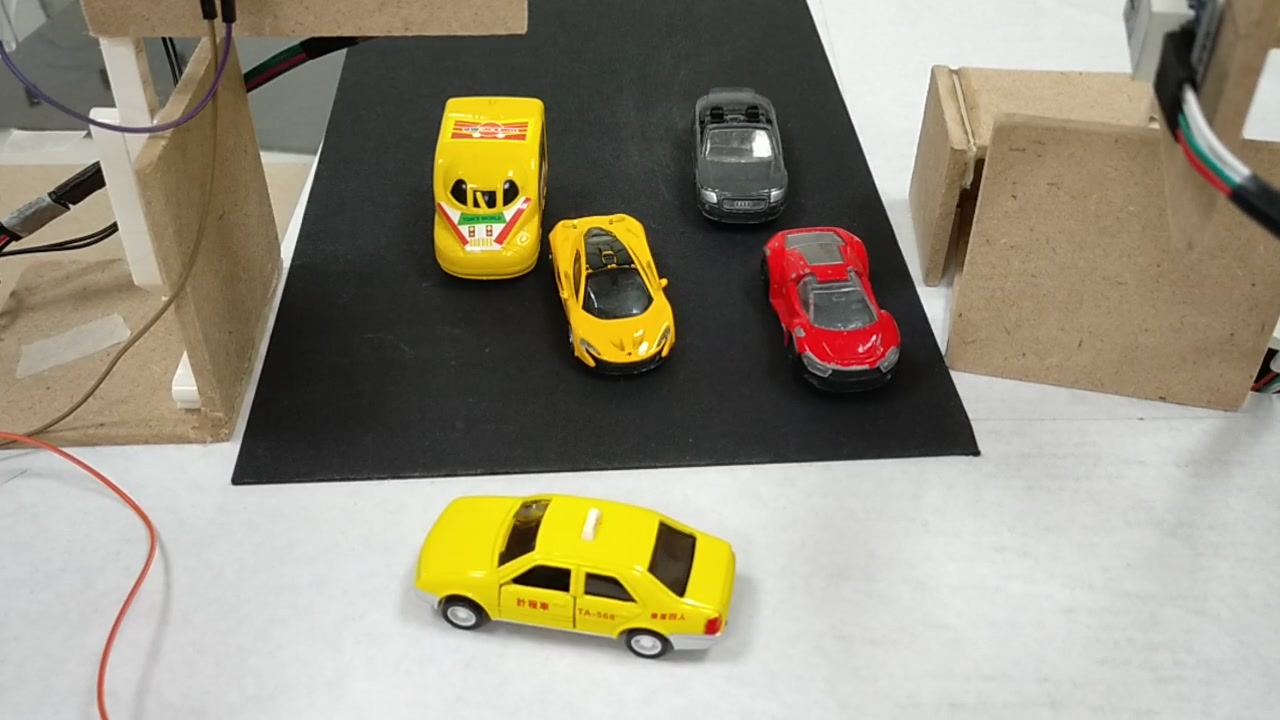car: (411, 492, 739, 660), (766, 232, 901, 389), (544, 217, 673, 376), (692, 84, 786, 222)
